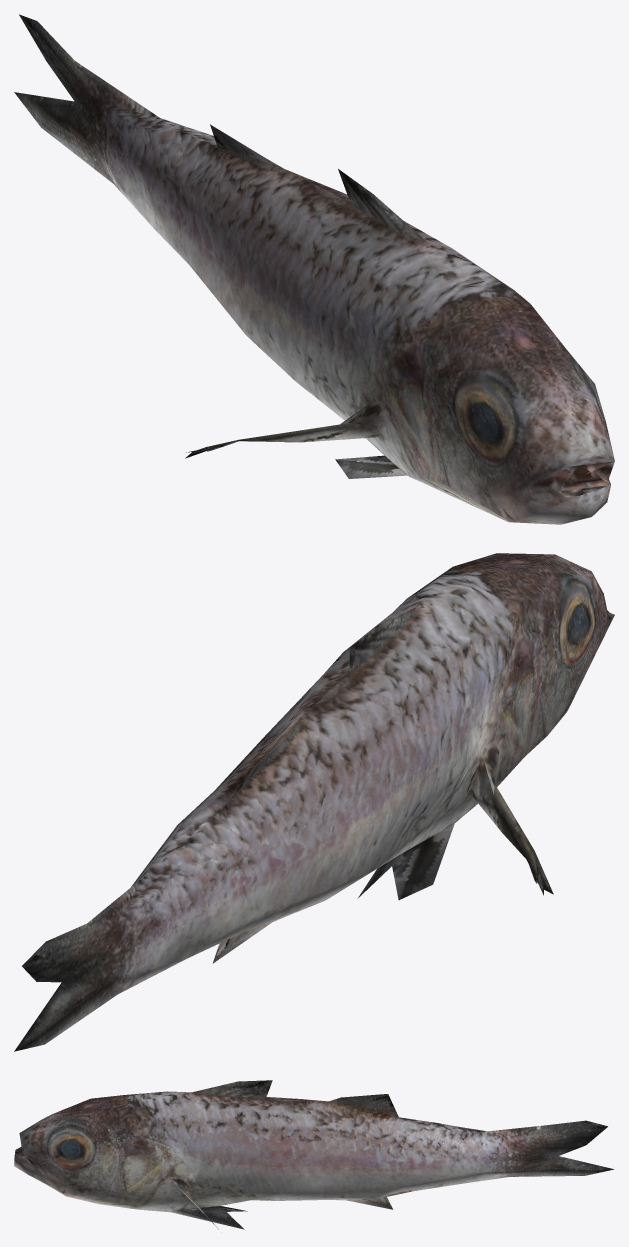
File: lanternfish.glb
3 renders of one model, top to bottom at view 1: azimuth 30°, elevation 25°; view 2: azimuth 150°, elevation 25°; view 3: azimuth 270°, elevation 25°, orthographic. The views are drawn at different scales.
Parts seen in each view (by area): view 1: lanternfish; view 2: lanternfish; view 3: lanternfish.
Boxes of the visible parts, x1,y1,x2,y2 form: lanternfish: [14, 14, 614, 524]; lanternfish: [14, 553, 614, 1051]; lanternfish: [14, 1080, 614, 1229].
Bounding box in the file's own units: 0.0303 × 0.0239 × 0.09.
Materials: 1 (1 with a texture image).
